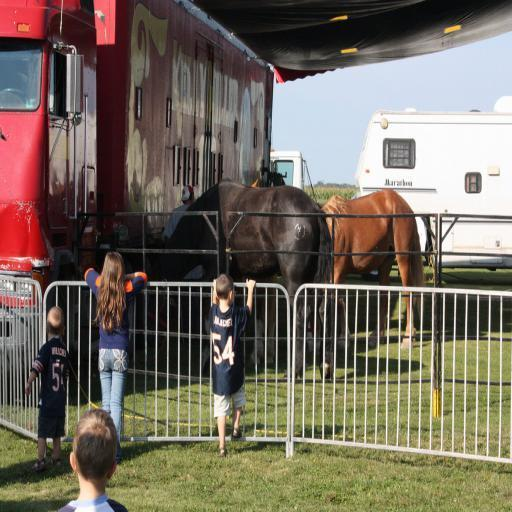horse: (153, 172, 336, 382), (320, 190, 428, 348)
